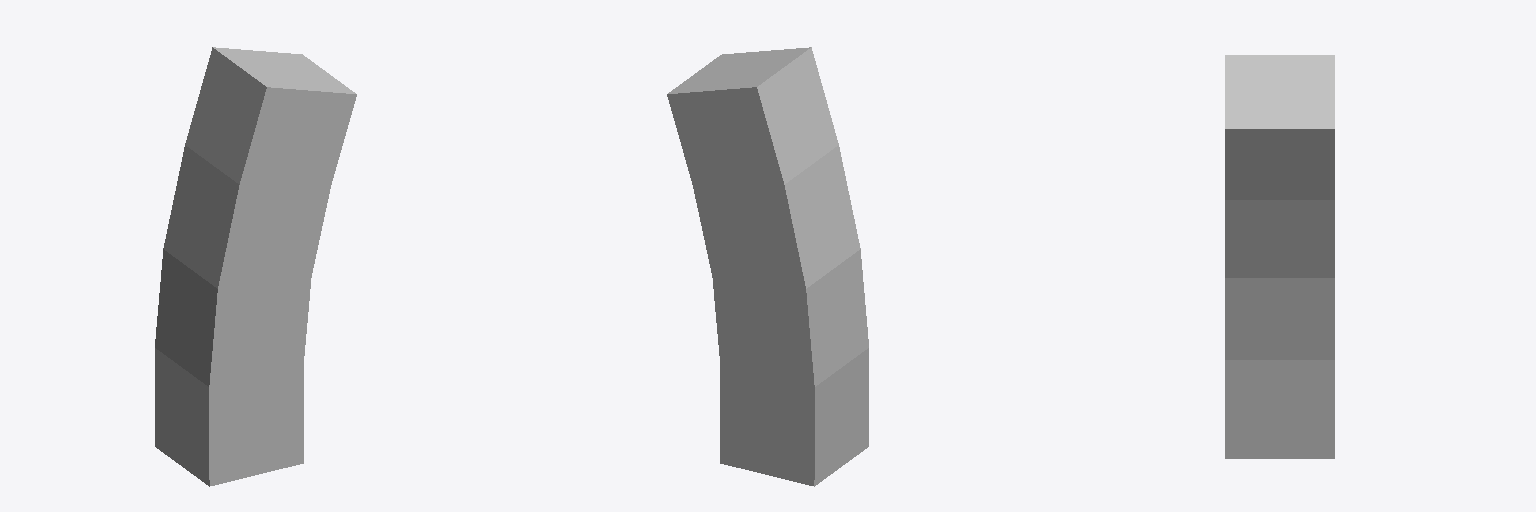
The model's file is Animation_000038.obj.
The picture shows the model from 3 angles: view 1: azimuth 30°, elevation 25°; view 2: azimuth 150°, elevation 25°; view 3: azimuth 270°, elevation 25°; orthographic projection.
Parts seen in each view (by area): view 1: Cube; view 2: Cube; view 3: Cube.
Part boxes in pixels (left/top/right/bottom): Cube: left=155, top=47, right=356, bottom=486; Cube: left=667, top=47, right=868, bottom=486; Cube: left=1225, top=55, right=1334, bottom=458.
Size of the model in its own units: 2.09 by 5.19 by 1.33.